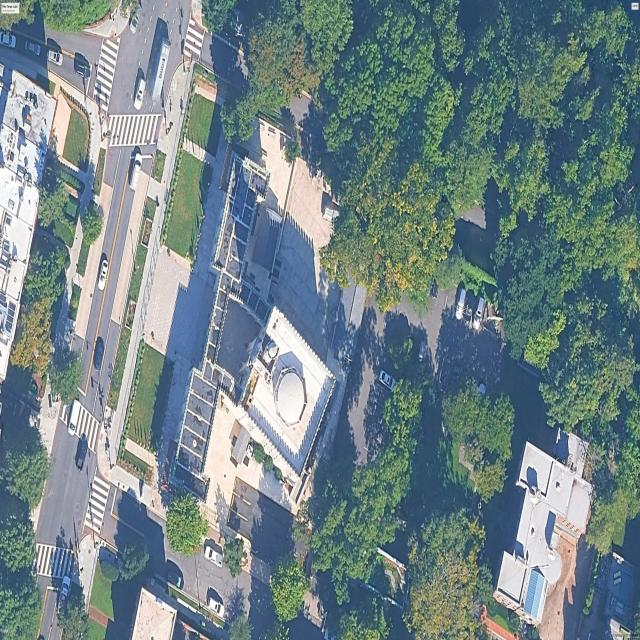Home: (524, 568, 546, 619)
mosque: (171, 154, 335, 501)
